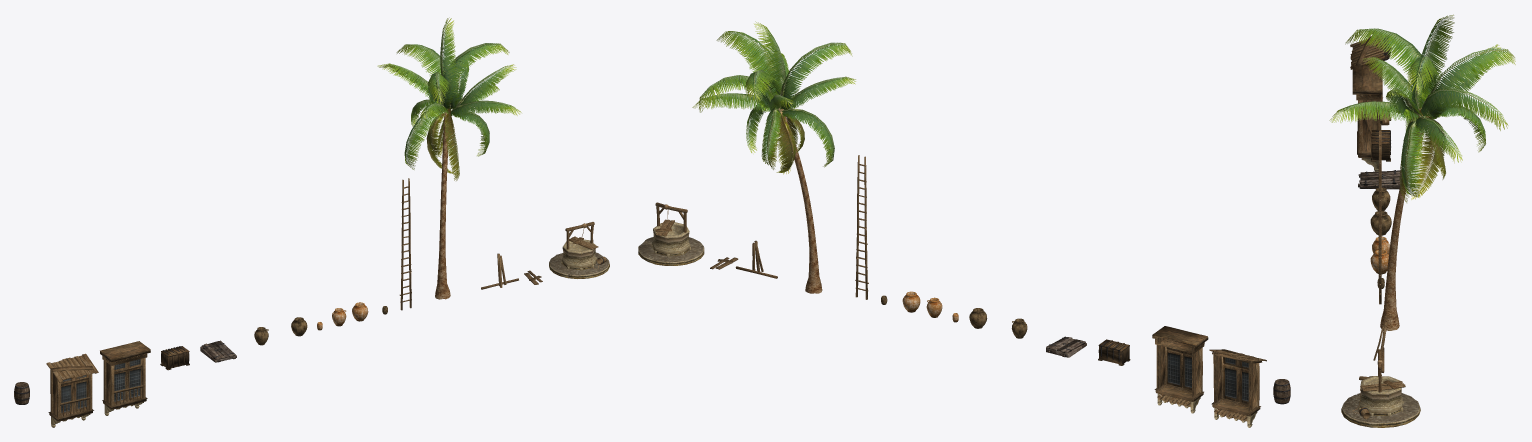
The model's file is oriental_houses_props_LOD.obj.
The picture shows the model from 3 angles, left to right: view 1: azimuth 30°, elevation 25°; view 2: azimuth 150°, elevation 25°; view 3: azimuth 270°, elevation 25°; orthographic projection. The views are drawn at different scales.
Visible parts, largest first — view 1: oriental_houses_props_LOD.obj; view 2: oriental_houses_props_LOD.obj; view 3: oriental_houses_props_LOD.obj.
Part boxes in pixels (bbox=[...]): oriental_houses_props_LOD.obj: bbox=[14, 17, 609, 427]; oriental_houses_props_LOD.obj: bbox=[638, 21, 1290, 427]; oriental_houses_props_LOD.obj: bbox=[1329, 14, 1515, 427].
Size of the model in its own units: 1085 by 505 by 243.
Materials: 15 (15 with a texture image).
